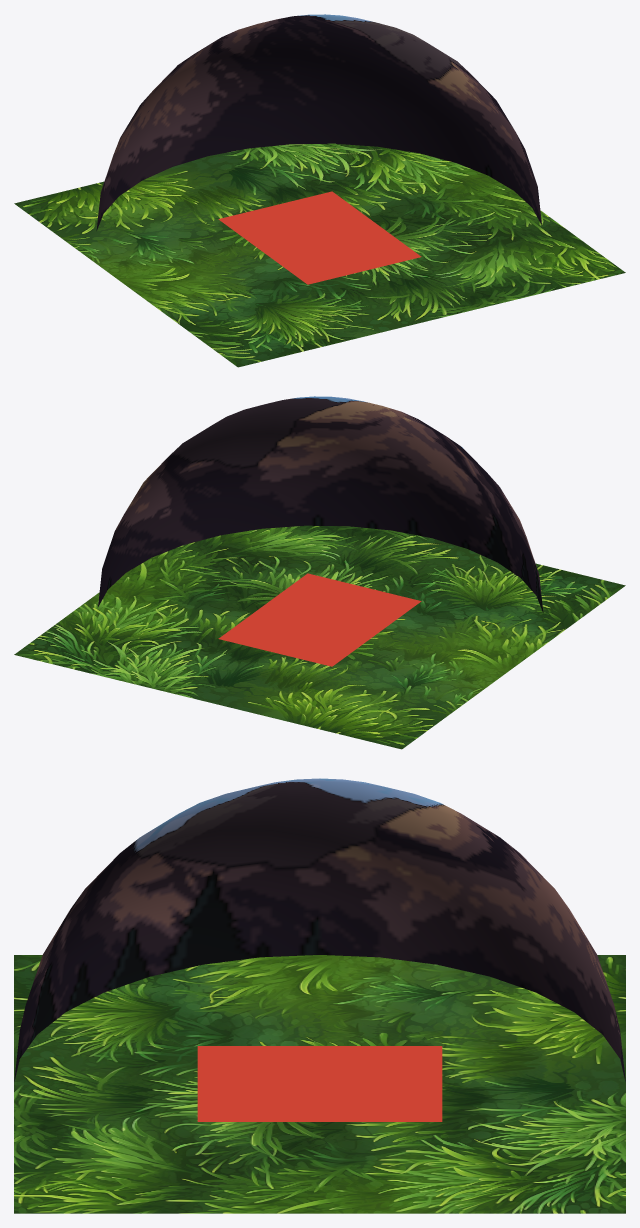
Rendered from floor_tmp.gltf.
3 renders of one model, top to bottom at view 1: azimuth 30°, elevation 25°; view 2: azimuth 150°, elevation 25°; view 3: azimuth 270°, elevation 25°, orthographic. The views are drawn at different scales.
Visible parts, largest first — view 1: 球, 平面; view 2: 球, 平面; view 3: 球, 平面.
Boxes of the visible parts, x1=… form: 球: x1=14, y1=14, x2=625, y2=367; 平面: x1=218, y1=191, x2=421, y2=284; 球: x1=14, y1=396, x2=625, y2=749; 平面: x1=218, y1=573, x2=421, y2=666; 球: x1=14, y1=778, x2=625, y2=1213; 平面: x1=197, y1=1046, x2=442, y2=1121.
Bounding box in the file's own units: 400 × 200 × 400.
Materials: 3 (2 with a texture image).
